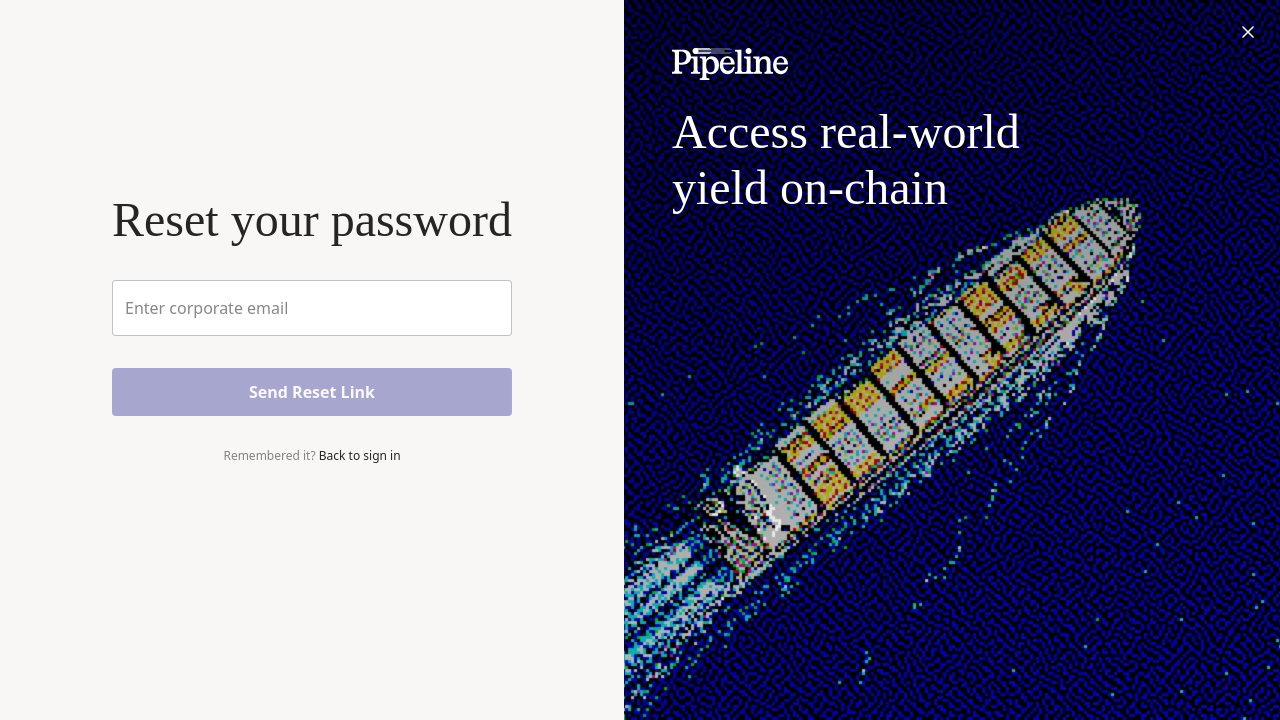
Scenario: ForgotPasswordModal (#1280) › a malformed email shows the error on blur and keeps submit disabled
Type "dsfdffs" into the field with placeholder "Enter corporate email" at coordinates (312, 308), box [125,297,499,319]
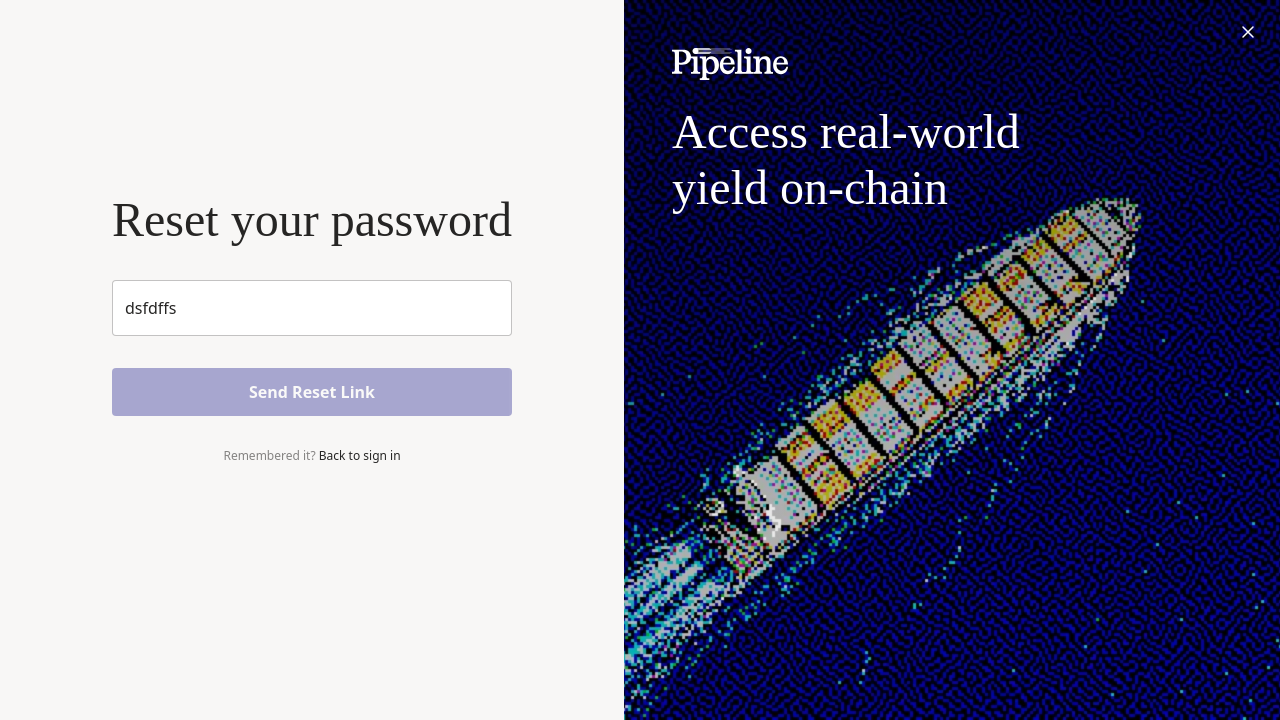
Leave the field with placeholder "Enter corporate email", box [125,297,499,319]
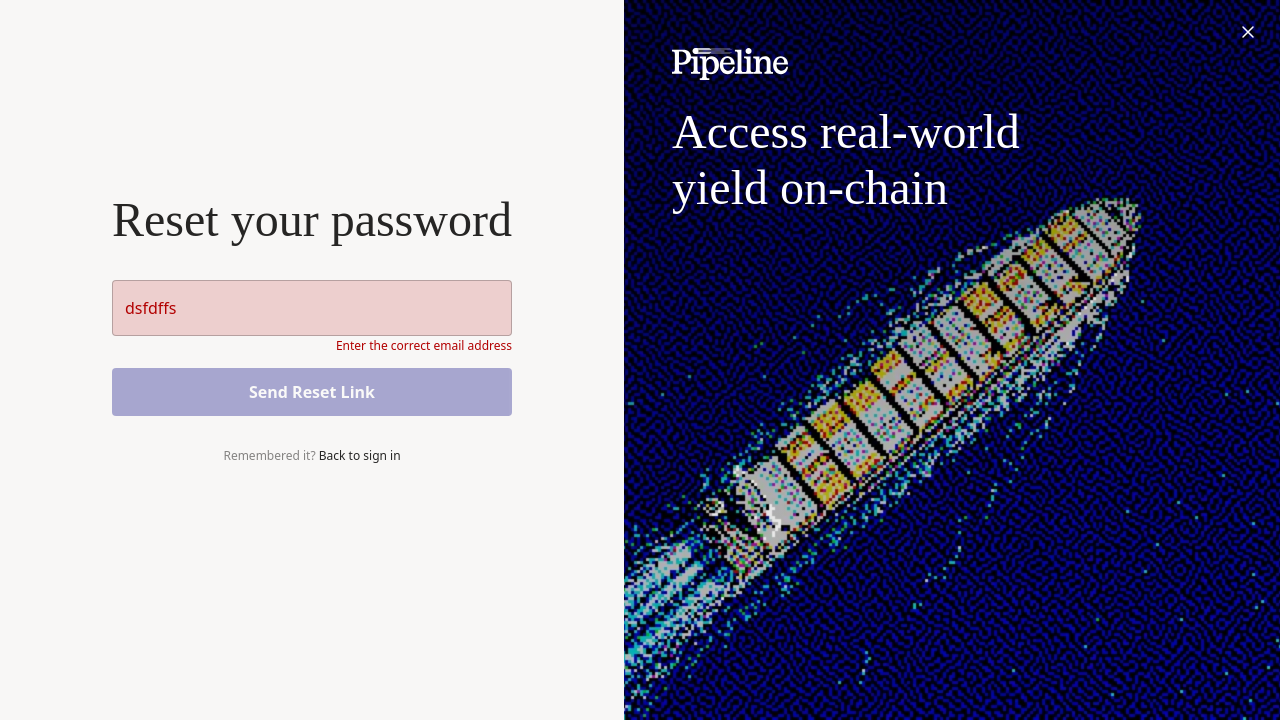
Check: the button "Send Reset Link" is disabled, box [112,368,512,416]
Check: the text "Enter the correct email address" is shown, box [336,338,512,354]
